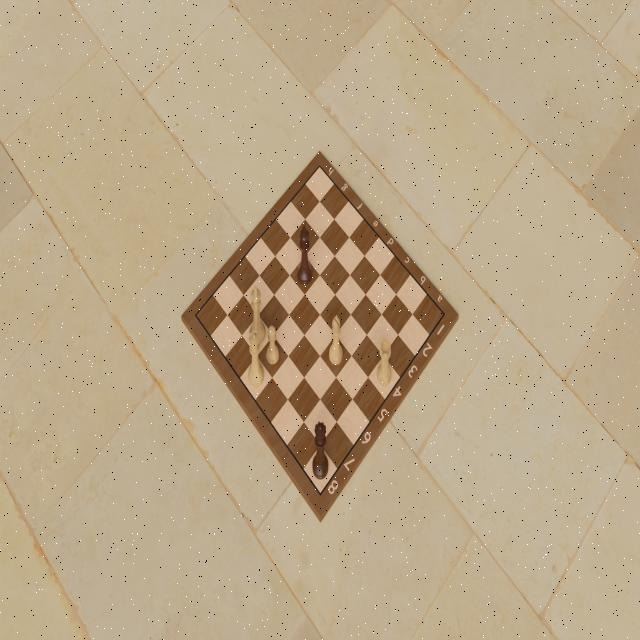black-king: (295, 224, 314, 287)
black-queen: (310, 418, 330, 481)
white-bishop: (328, 314, 344, 366)
white-king: (247, 285, 265, 346)
white-pawn: (264, 323, 280, 366)
white-queen: (246, 328, 265, 390)
white-rook: (376, 337, 392, 389)
